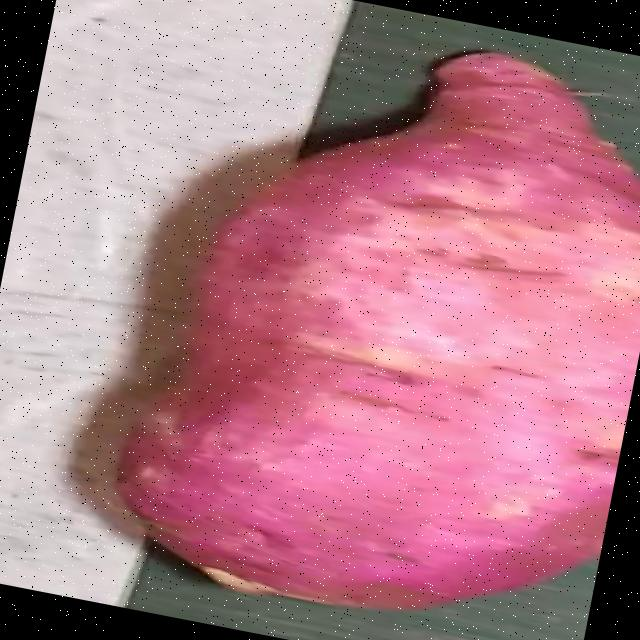Sweet Potato: (114, 49, 640, 614)
